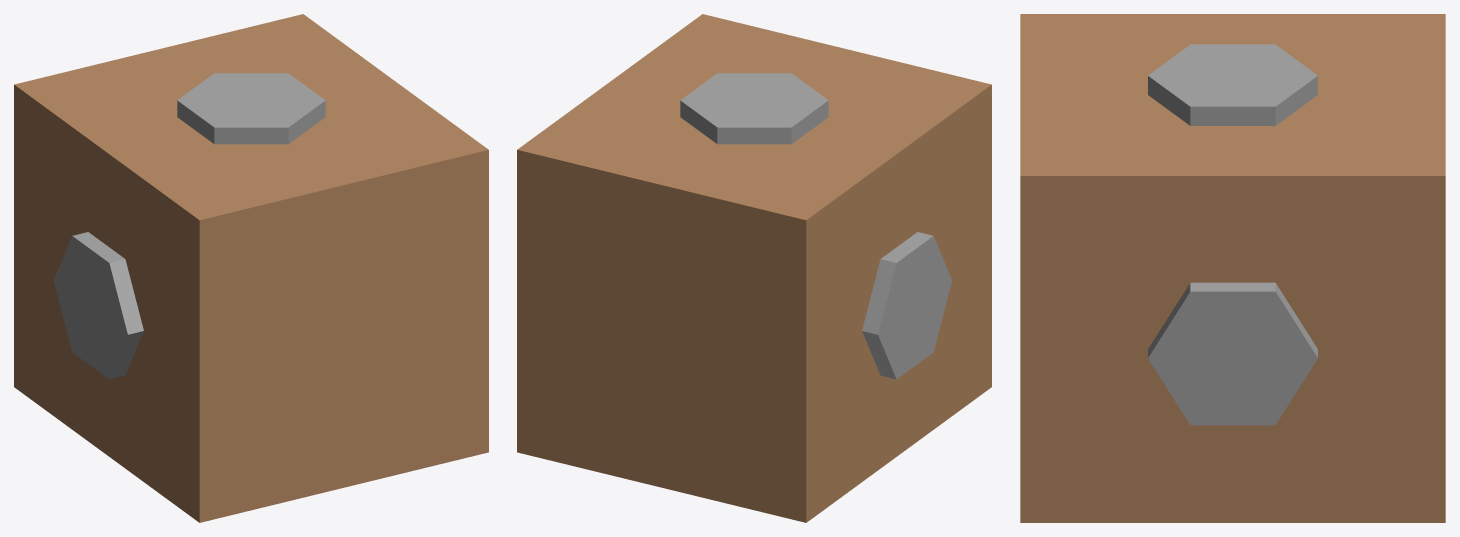
The model's file is transmision_box.glb.
3 views of the same model, side by side, from view 1: azimuth 30°, elevation 25°; view 2: azimuth 150°, elevation 25°; view 3: azimuth 270°, elevation 25° (orthographic). The views are drawn at different scales.
Visible parts, largest first — view 1: Cube, Port3, Port1; view 2: Cube, Port3, Port1; view 3: Cube, Port4, Port1.
Boxes of the visible parts, x1,y1,x2,y2 form: Cube: (14,14,488,522); Port3: (53,232,143,379); Port1: (177,73,325,144); Cube: (517,14,991,522); Port3: (862,232,952,379); Port1: (680,73,828,144); Cube: (1020,14,1445,522); Port4: (1148,282,1317,425); Port1: (1148,44,1317,125).
Size of the model in its own units: 1 by 1 by 1.
